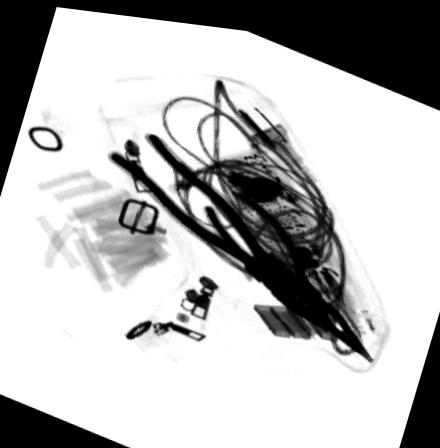Pliers: (106, 126, 308, 305), (200, 184, 374, 353)
